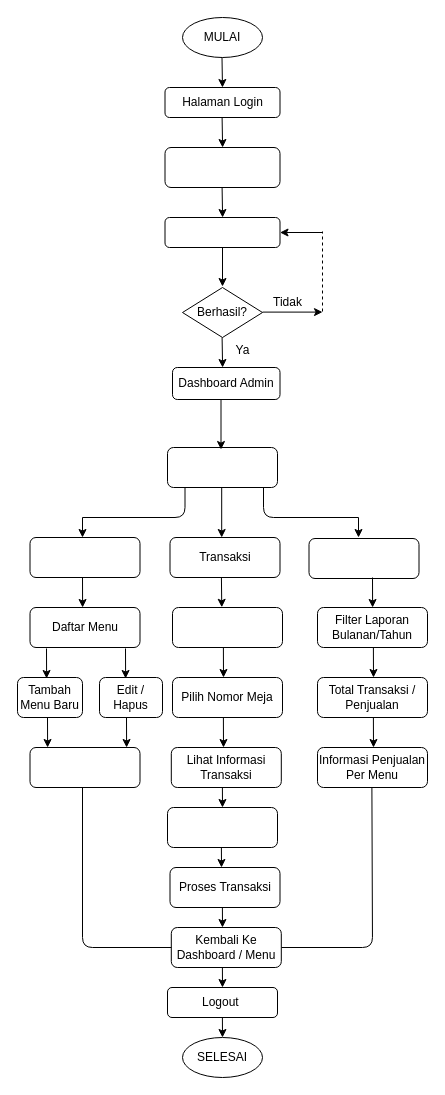
Some shapes in this 445 by 1095 pixel diagram are drawn without their labels. Each missing label, with the box of its shape:
Input Uang Bayar: (166, 806, 278, 848)
Input Username dan Password: (164, 146, 280, 188)
Laporan Penjualan: (308, 538, 419, 578)
Menu: (29, 536, 140, 578)
PIlih Menu Navbar: (166, 446, 278, 488)
Simpan Perubahan: (29, 746, 140, 788)
Tambah Transaksi Baru: (172, 606, 282, 648)
Validasi Login: (164, 216, 280, 248)
